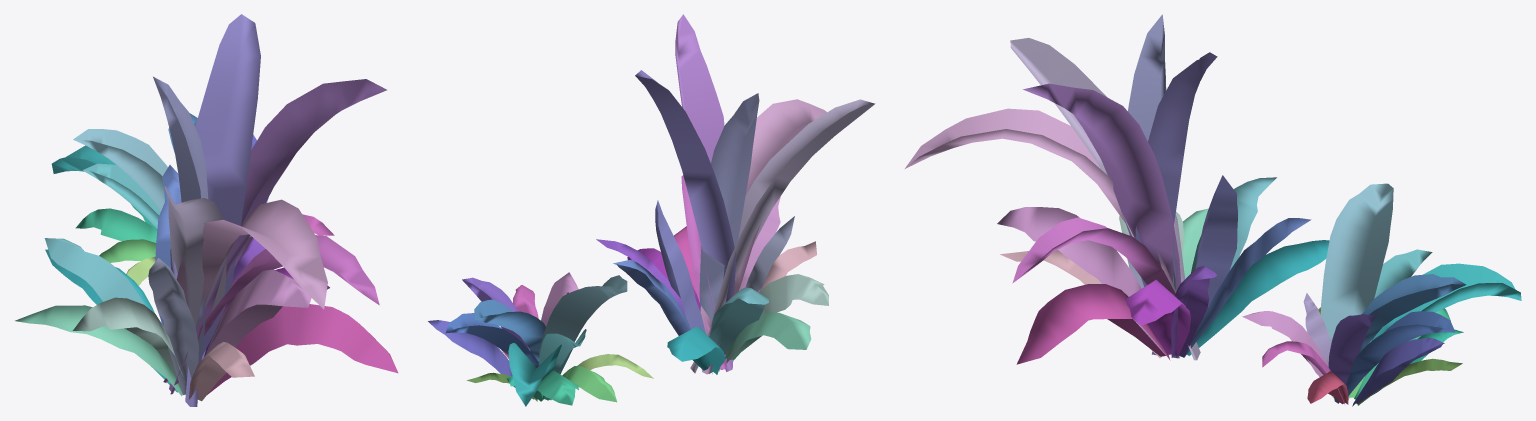
3 views of the same model, side by side, from view 1: azimuth 30°, elevation 25°; view 2: azimuth 150°, elevation 25°; view 3: azimuth 270°, elevation 25° (orthographic). The views are drawn at different scales.
Parts seen in each view (by area): view 1: SM_BS_DatePalm_100cm_HD; view 2: SM_BS_DatePalm_100cm_HD; view 3: SM_BS_DatePalm_100cm_HD.
Boxes of the visible parts, x1,y1,x2,y2 form: SM_BS_DatePalm_100cm_HD: (15,14,398,406); SM_BS_DatePalm_100cm_HD: (428,14,875,406); SM_BS_DatePalm_100cm_HD: (905,14,1521,406).
Size of the model in its own units: 68.39 by 42.18 by 41.23.
